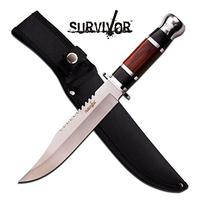knife: (16, 15, 179, 185)
